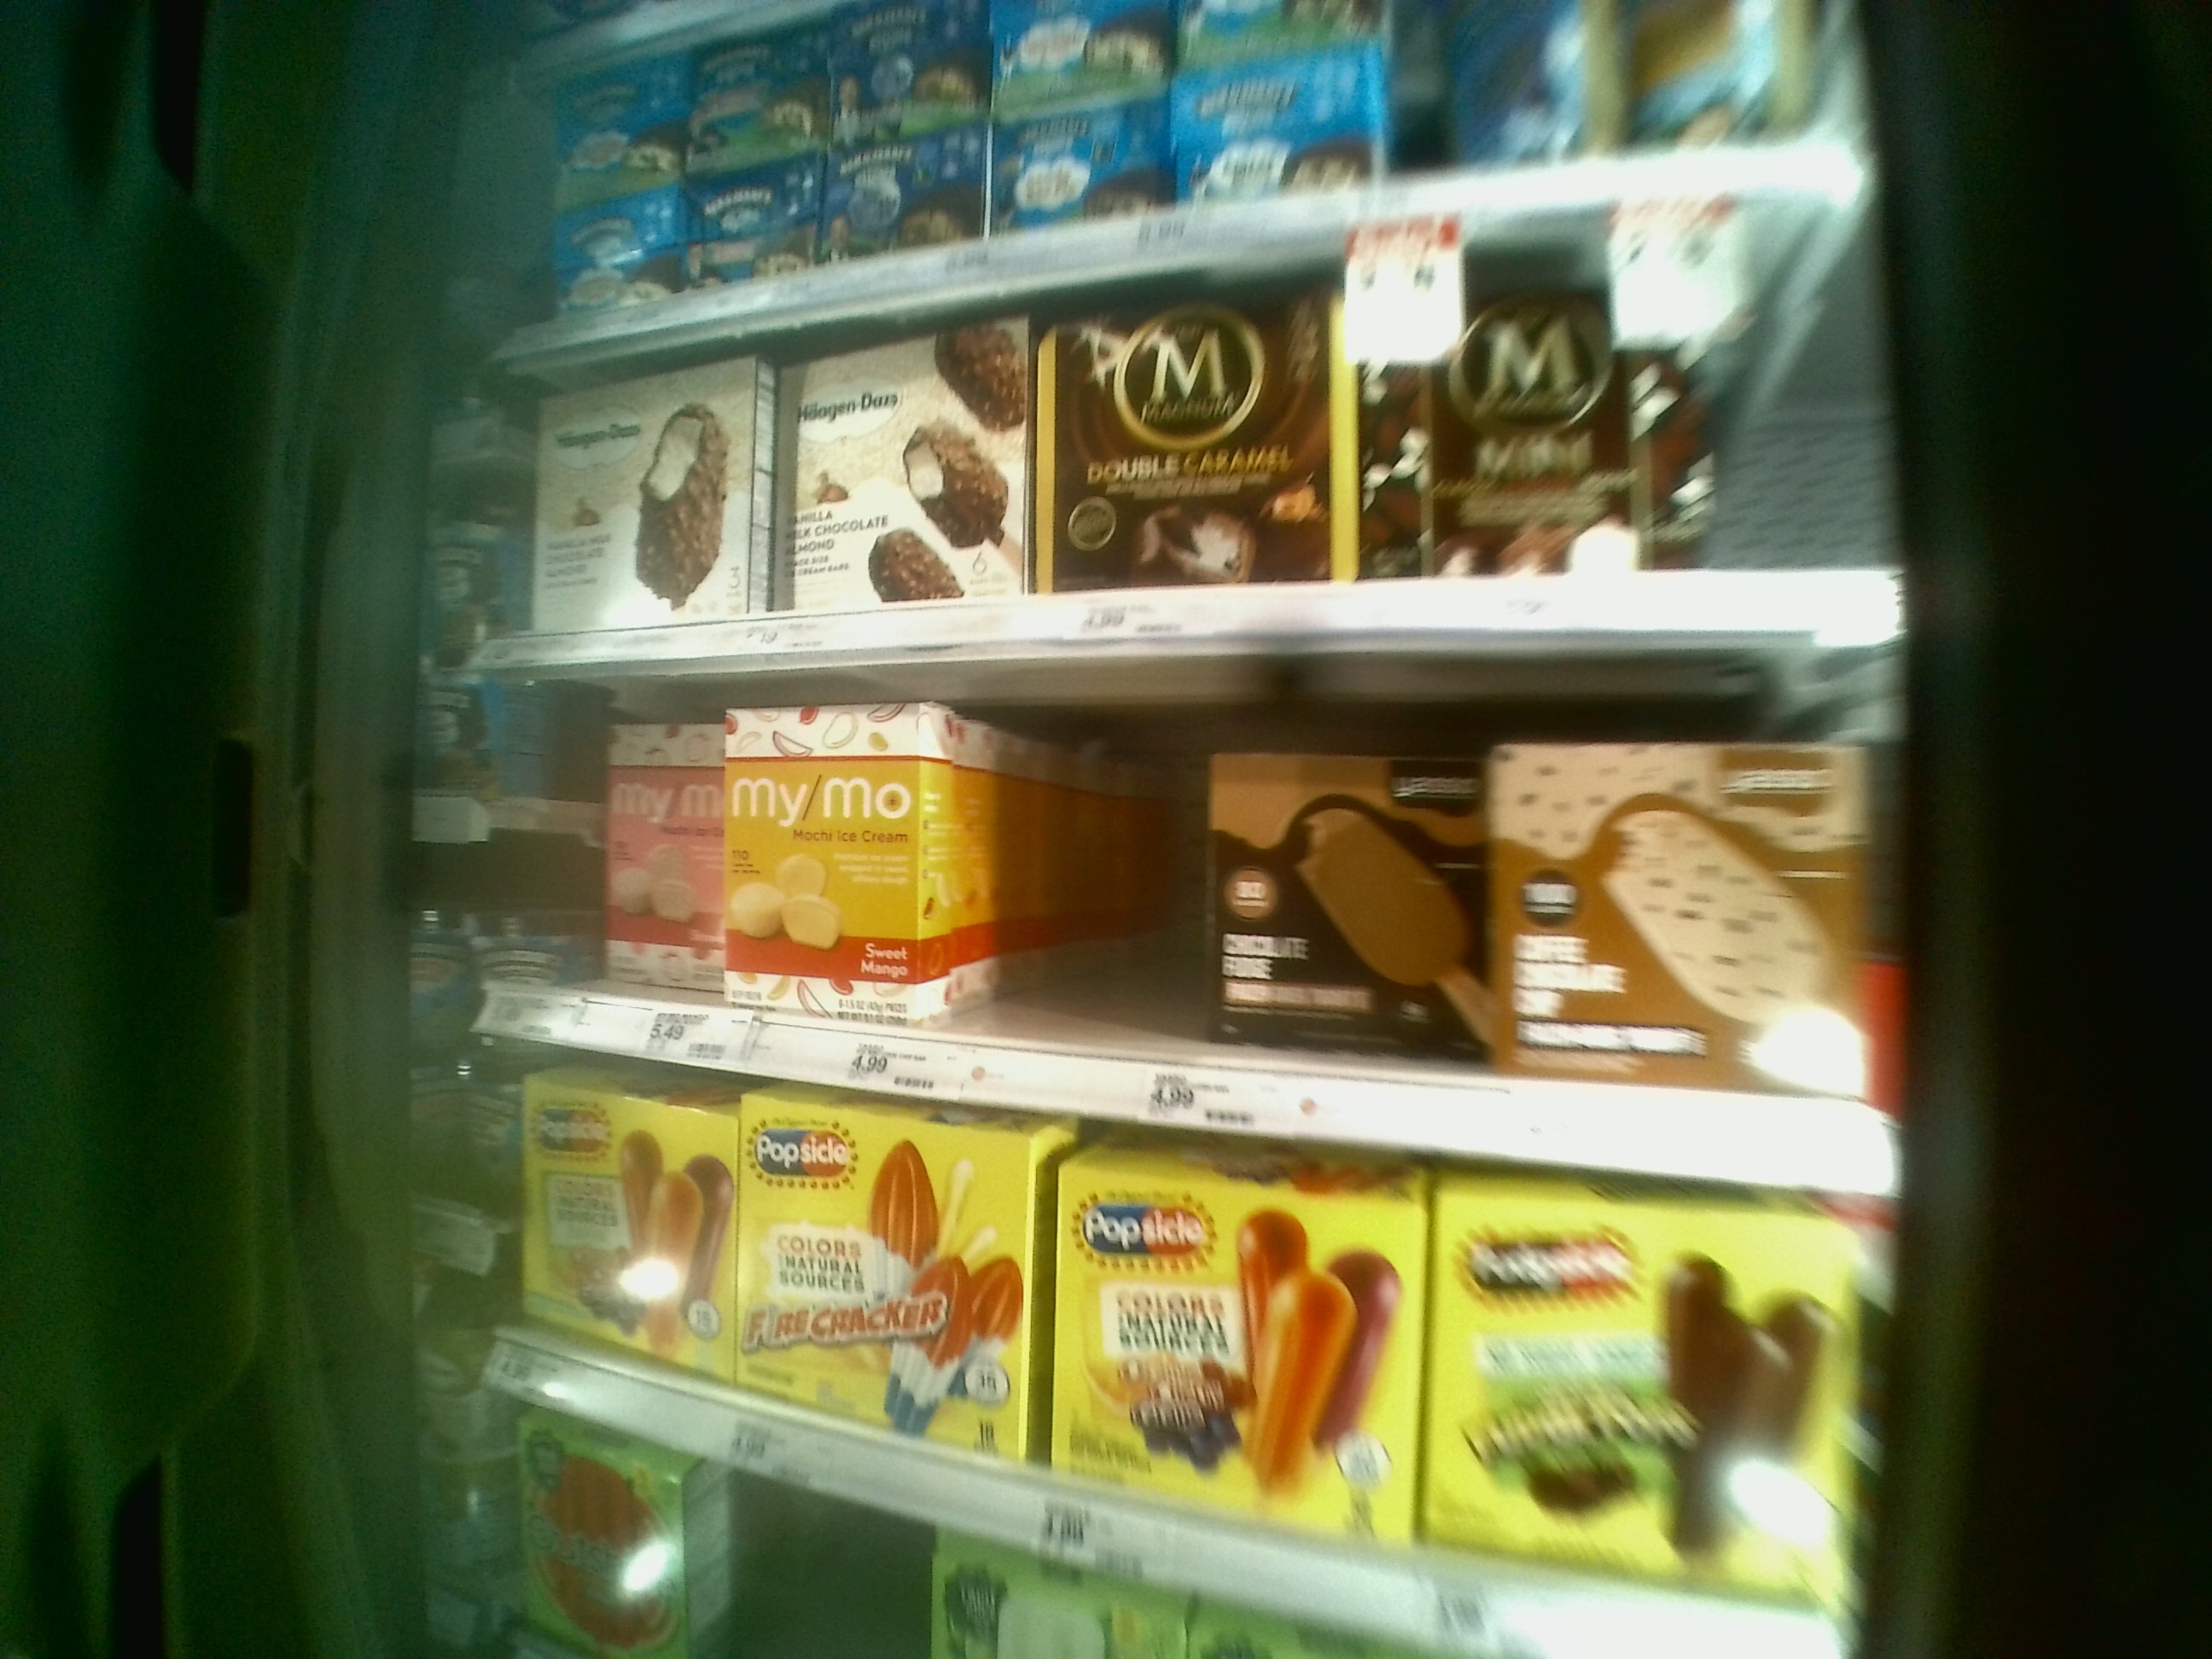shelf: (481, 660, 1907, 1199), (486, 197, 1886, 664)
